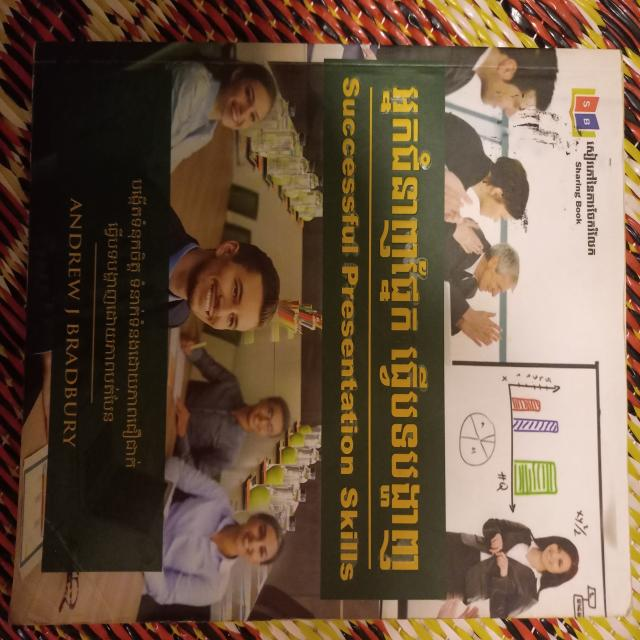1: (376, 78, 432, 575), (122, 173, 148, 475)
Yolov11_80vkh: (98, 215, 126, 428), (581, 139, 601, 258)
